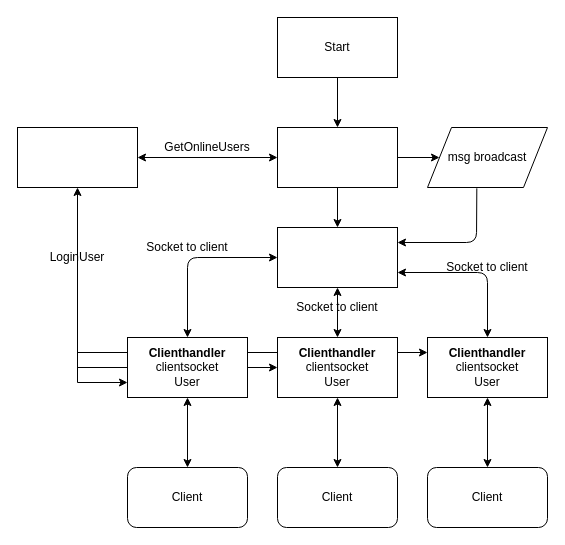
Some shapes in this 565 by 545 pixel diagram are drawn without their labels. Each missing label, with the centre of its shape:
Moderator: pixel 77 157
Multithreader serversocket: pixel 337 257
server_gui: pixel 337 157
